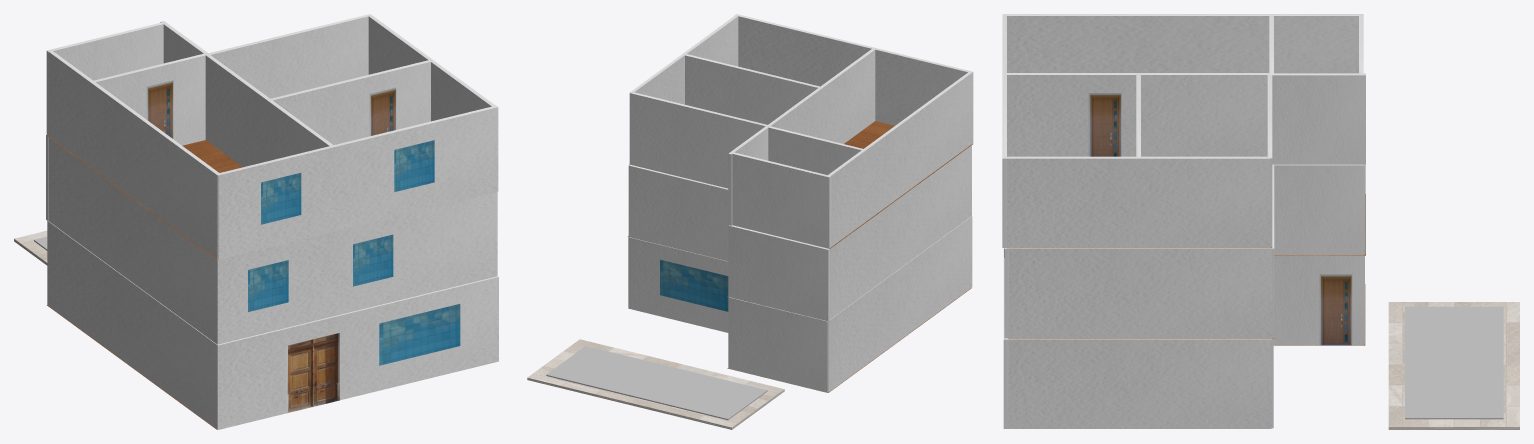
Rendered from casita.obj.
The picture shows the model from 3 angles, left to right: view 1: azimuth 30°, elevation 25°; view 2: azimuth 150°, elevation 25°; view 3: azimuth 270°, elevation 25°; orthographic projection. The views are drawn at different scales.
Parts seen in each view (by area): view 1: Box022, Box031, Box013, Box020, Box008, Box026, Box015, Box044, Box046, Box045, Box019, Box017 (+11 smaller); view 2: Box020, Box008, Box026, Box022, Box015, Box028, Box078, Box030, Box017, Box010, Box046, Box044 (+7 smaller); view 3: Box019, Box009, Box027, Box020, Box044, Box078, Box016, Box029, Box033, Box077, Box059, Box054 (+4 smaller).
Part boxes in pixels (box(x1,y1,x2,y2)): Box022: box(217, 106, 498, 259); Box031: box(217, 192, 497, 344); Box013: box(218, 276, 498, 429); Box020: box(49, 50, 220, 259); Box008: box(48, 221, 220, 429); Box026: box(48, 138, 217, 344); Box015: box(206, 14, 371, 98); Box044: box(205, 54, 333, 167); Box046: box(268, 60, 430, 144); Box045: box(92, 53, 205, 145); Box019: box(368, 14, 496, 121); Box017: box(46, 22, 163, 136); Box020: box(827, 71, 973, 246); Box008: box(828, 216, 972, 391); Box026: box(826, 145, 971, 319); Box022: box(735, 14, 972, 125); Box015: box(629, 92, 769, 188); Box028: box(729, 225, 829, 321); Box078: box(546, 346, 767, 420); Box030: box(628, 164, 728, 260); Box017: box(731, 152, 831, 248); Box010: box(729, 297, 828, 392); Box046: box(685, 54, 820, 124); Box044: box(768, 49, 875, 143); Box019: box(1004, 156, 1270, 247); Box009: box(1005, 338, 1271, 428); Box027: box(1006, 248, 1272, 338); Box020: box(1003, 14, 1360, 73); Box044: box(1004, 73, 1269, 156); Box078: box(1405, 306, 1503, 419); Box016: box(1270, 73, 1365, 164); Box029: box(1272, 164, 1364, 254); Box033: box(1273, 255, 1363, 345); Box077: box(1388, 302, 1519, 429); Box059: box(1319, 274, 1352, 345); Box054: box(1088, 93, 1121, 156).
Size of the model in its own units: 106 by 90.49 by 158.
